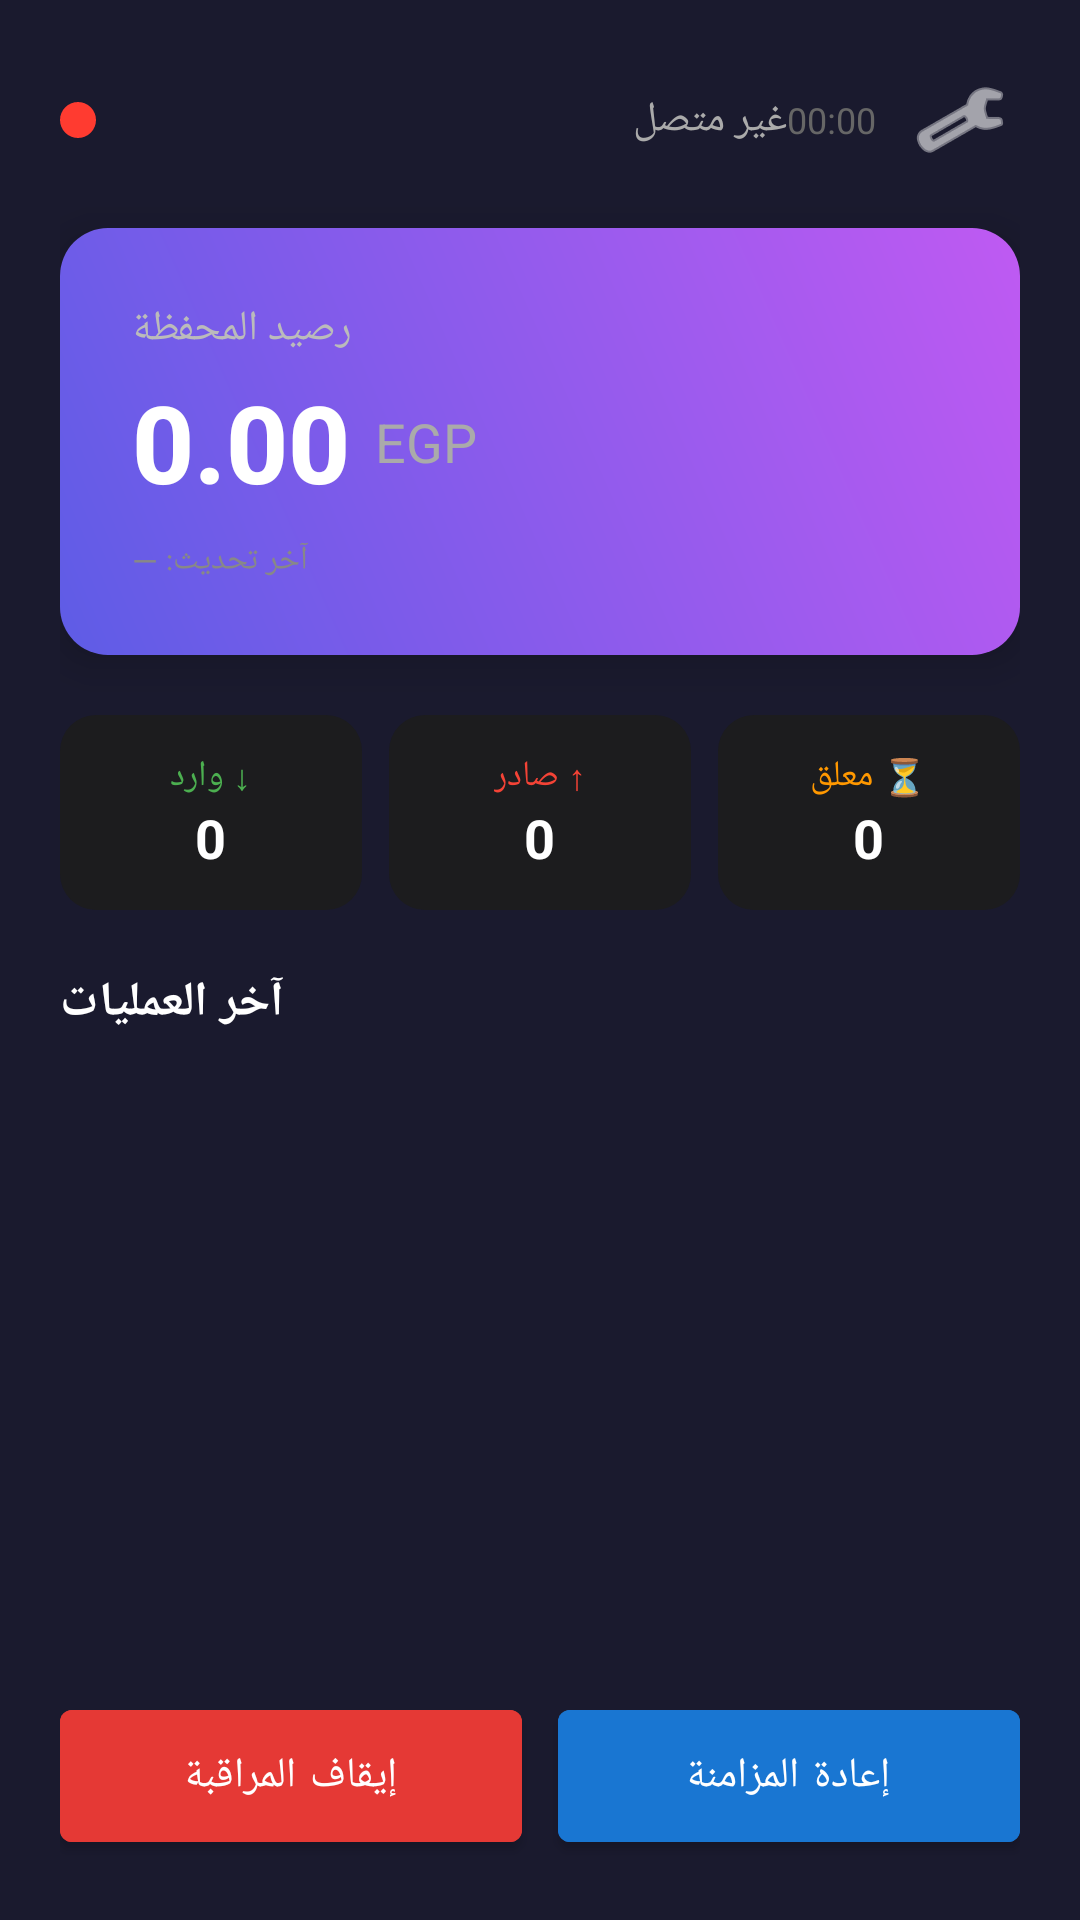

Where icons sit on this 1080w x 1920h app screen, as (x1, y1, x2, y2):
الإعدادات: (917, 87, 1003, 153)
